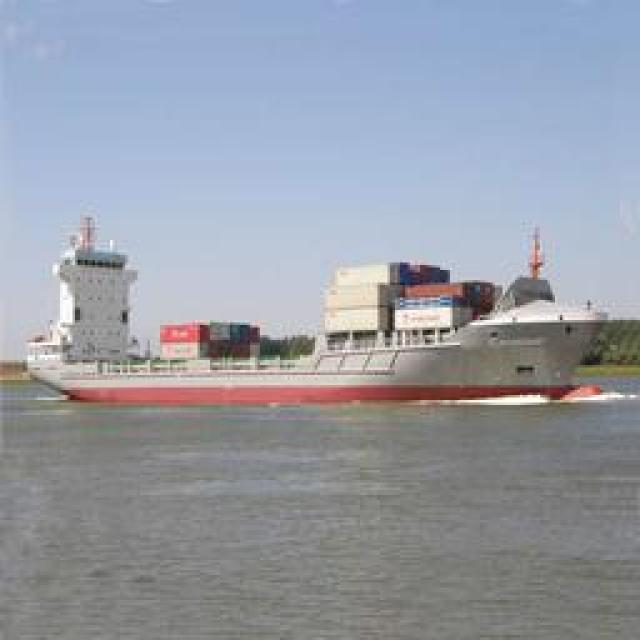ship2: (25, 207, 611, 409)
